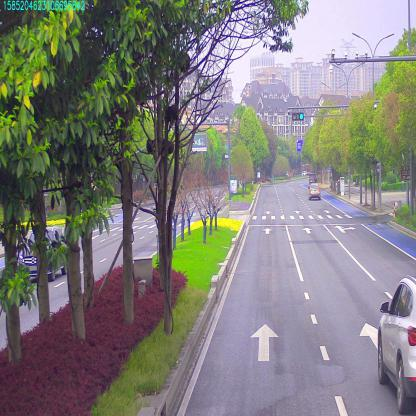traffic-light: (292, 112, 304, 121)
